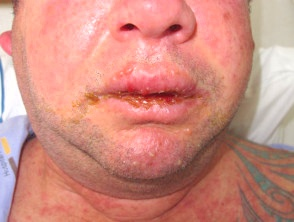SJS-TEN: (58, 37, 230, 204)
